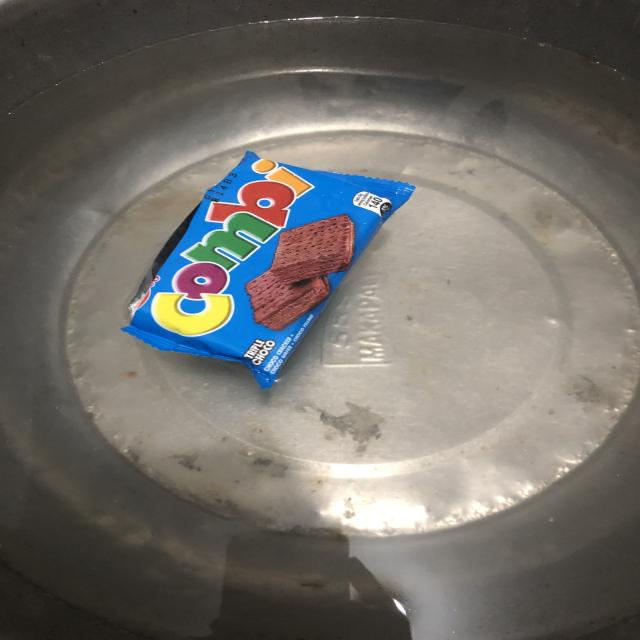Plastic Wrapper: (95, 124, 453, 406)
